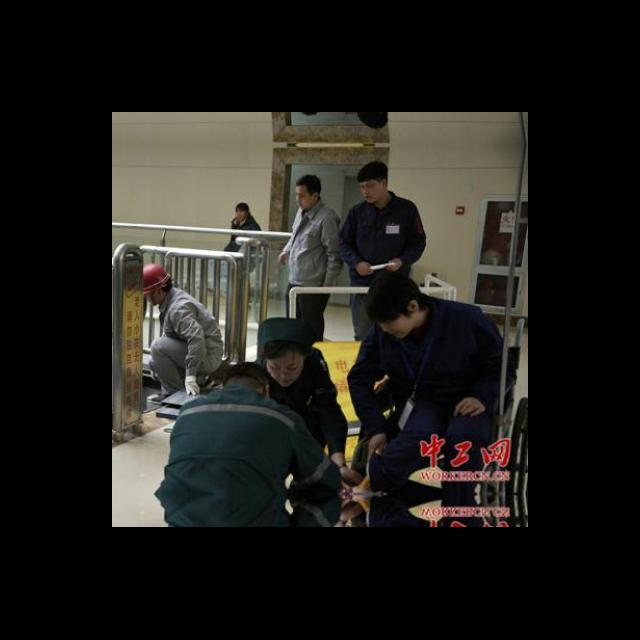Gloves: (184, 376, 200, 397)
Hardhat: (142, 265, 172, 293)
NO-Hardhat: (364, 273, 411, 322), (261, 325, 310, 355), (222, 362, 269, 386), (356, 160, 389, 180), (295, 174, 321, 190), (234, 202, 249, 211)
NO-Mask: (390, 320, 416, 339), (272, 374, 299, 388), (365, 188, 385, 204), (148, 295, 163, 307), (299, 198, 313, 210), (237, 214, 245, 221)
NO-Safety Vest: (164, 392, 293, 524), (380, 302, 489, 411), (347, 205, 413, 272), (272, 363, 323, 439), (287, 207, 332, 284), (165, 297, 221, 351), (231, 222, 259, 247)
Person: (347, 272, 510, 494), (161, 360, 344, 528), (254, 317, 352, 495), (339, 157, 425, 341), (277, 172, 343, 346), (143, 265, 222, 404), (224, 201, 262, 309)
